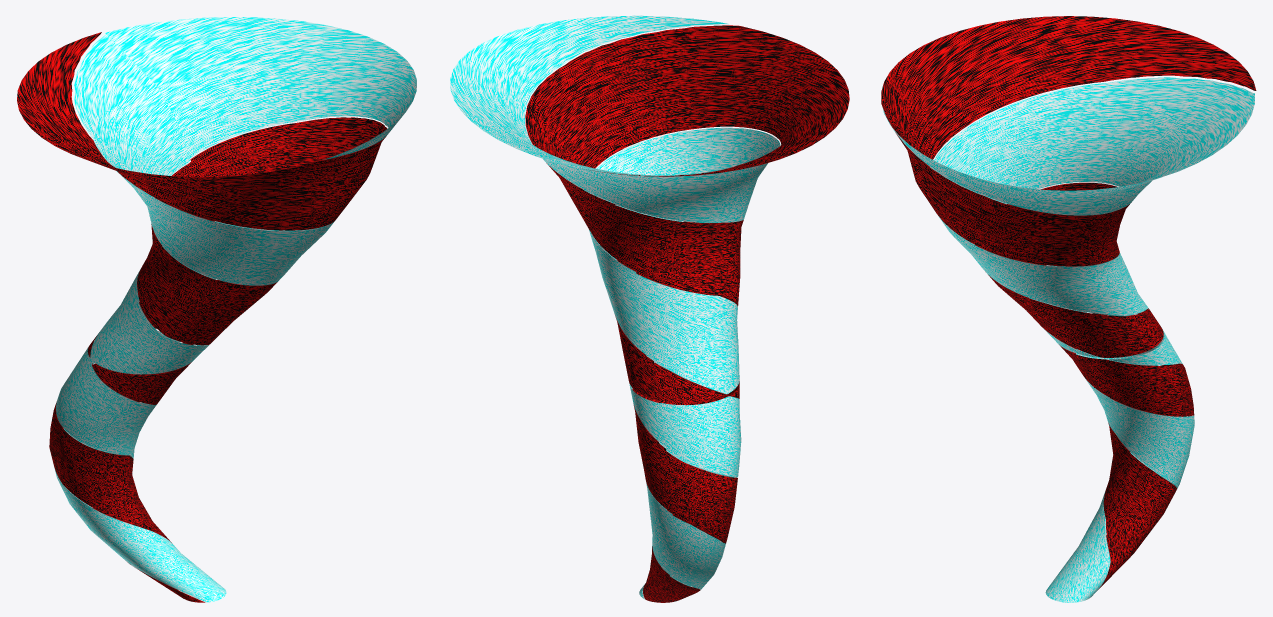
The model's file is SM_Tornado_02_RSW.fbx.
3 views of the same model, side by side, from view 1: azimuth 30°, elevation 25°; view 2: azimuth 150°, elevation 25°; view 3: azimuth 270°, elevation 25° (orthographic).
Visible parts, largest first — view 1: SM_Tornado_02_RSW; view 2: SM_Tornado_02_RSW; view 3: SM_Tornado_02_RSW.
Part boxes in pixels (x1,y1,x2,y2): SM_Tornado_02_RSW: [17, 17, 416, 602]; SM_Tornado_02_RSW: [450, 15, 849, 602]; SM_Tornado_02_RSW: [881, 16, 1256, 602].
Bounding box in the file's own units: 103 × 135 × 93.15.
